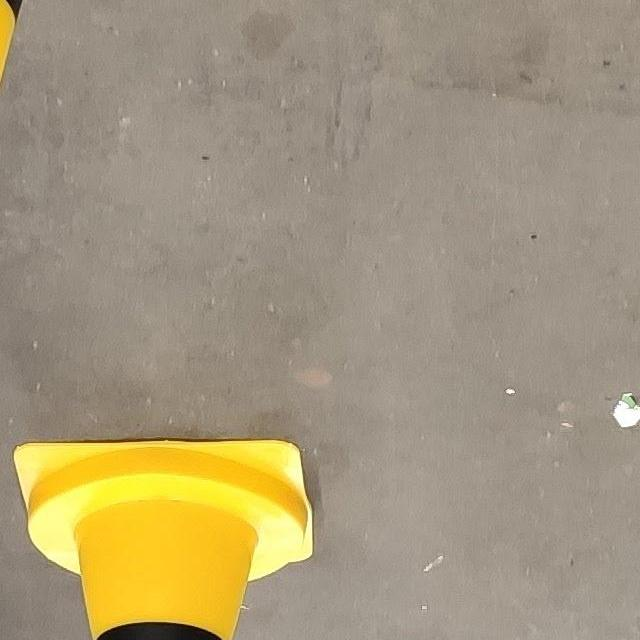Safety Cone: (15, 430, 325, 640)
